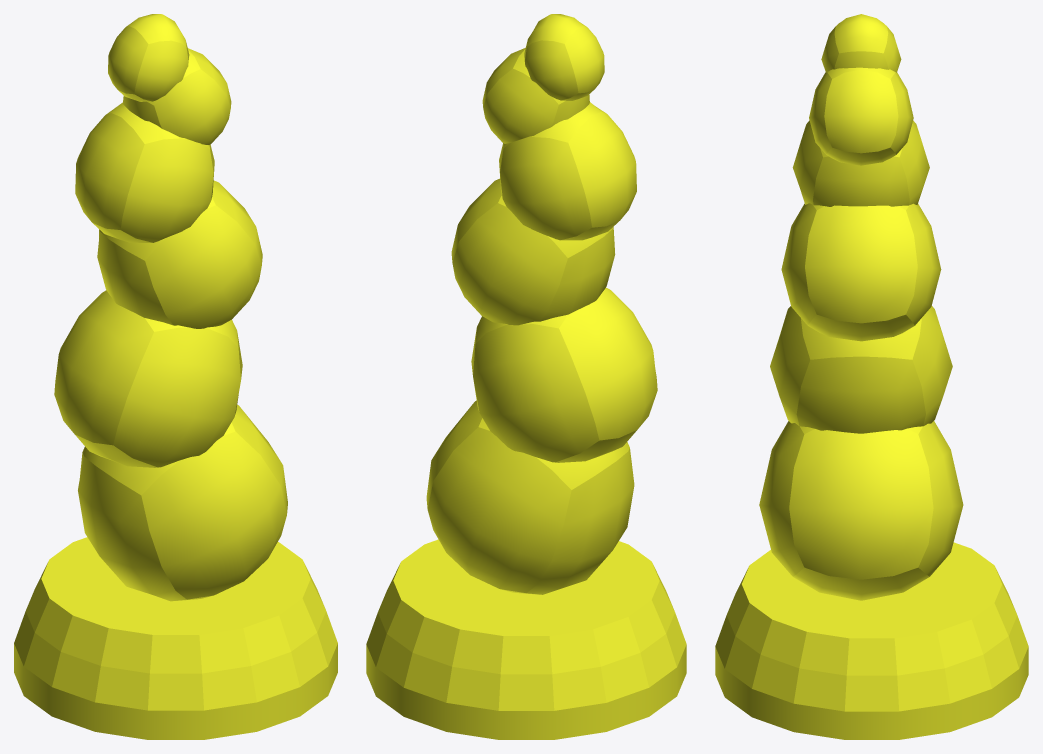
Rendered from EggPileUp.fbx.
The picture shows the model from 3 angles, left to right: view 1: azimuth 30°, elevation 25°; view 2: azimuth 150°, elevation 25°; view 3: azimuth 270°, elevation 25°; orthographic projection. The views are drawn at different scales.
Visible parts, largest first — view 1: Cylinder254, Box1448, Box1449, Box1450, Box1451, Box1453, Box1452; view 2: Cylinder254, Box1448, Box1449, Box1450, Box1451, Box1453, Box1452; view 3: Cylinder254, Box1448, Box1450, Box1449, Box1452, Box1451, Box1453.
Part boxes in pixels (x1,y1,x2,y2): Cylinder254: (14,537,337,739); Box1448: (78,405,287,601); Box1449: (54,290,242,467); Box1450: (97,180,262,328); Box1451: (75,102,214,242); Box1453: (108,14,189,101); Box1452: (123,48,231,144); Cylinder254: (366,539,686,739); Box1448: (426,400,634,594); Box1449: (471,287,657,462); Box1450: (451,178,615,325); Box1451: (499,102,636,240); Box1453: (524,14,604,100); Box1452: (482,48,589,143); Cylinder254: (715,542,1028,739); Box1448: (759,421,963,600); Box1450: (781,203,941,341); Box1449: (770,306,952,433); Box1452: (809,67,913,165); Box1451: (792,120,929,206); Box1453: (821,14,901,72).
Size of the model in its own units: 141 by 326 by 144.
